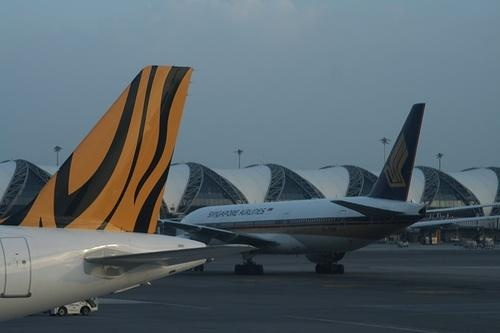aeroplane: (1, 58, 262, 333), (180, 103, 436, 281)
